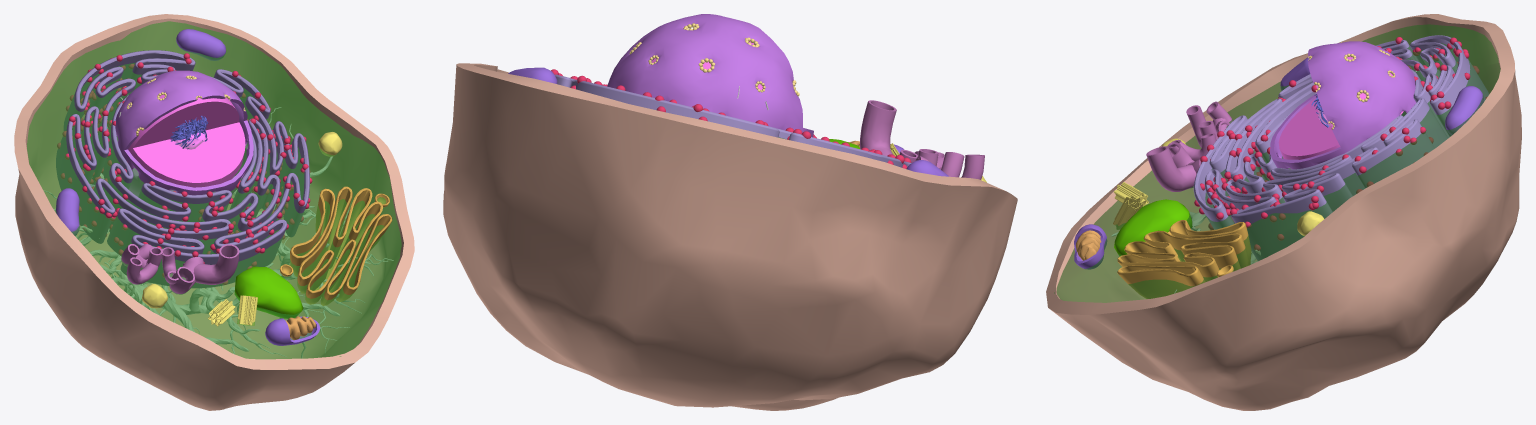
The picture shows the model from 3 angles, left to right: view 1: azimuth 30°, elevation 25°; view 2: azimuth 150°, elevation 25°; view 3: azimuth 270°, elevation 25°; orthographic projection. The views are drawn at different scales.
Parts seen in each view (by area): view 1: Nulo_, citoplasma_remesh; view 2: Nulo_; view 3: Nulo_, citoplasma_remesh.
Part boxes in pixels (x1,y1,x2,y2): Nulo_: [14, 14, 414, 410]; citoplasma_remesh: [27, 21, 401, 359]; Nulo_: [443, 14, 1017, 410]; Nulo_: [1046, 14, 1521, 410]; citoplasma_remesh: [1054, 24, 1500, 302].
Bounding box in the file's own units: 1.9 × 1.52 × 2.
